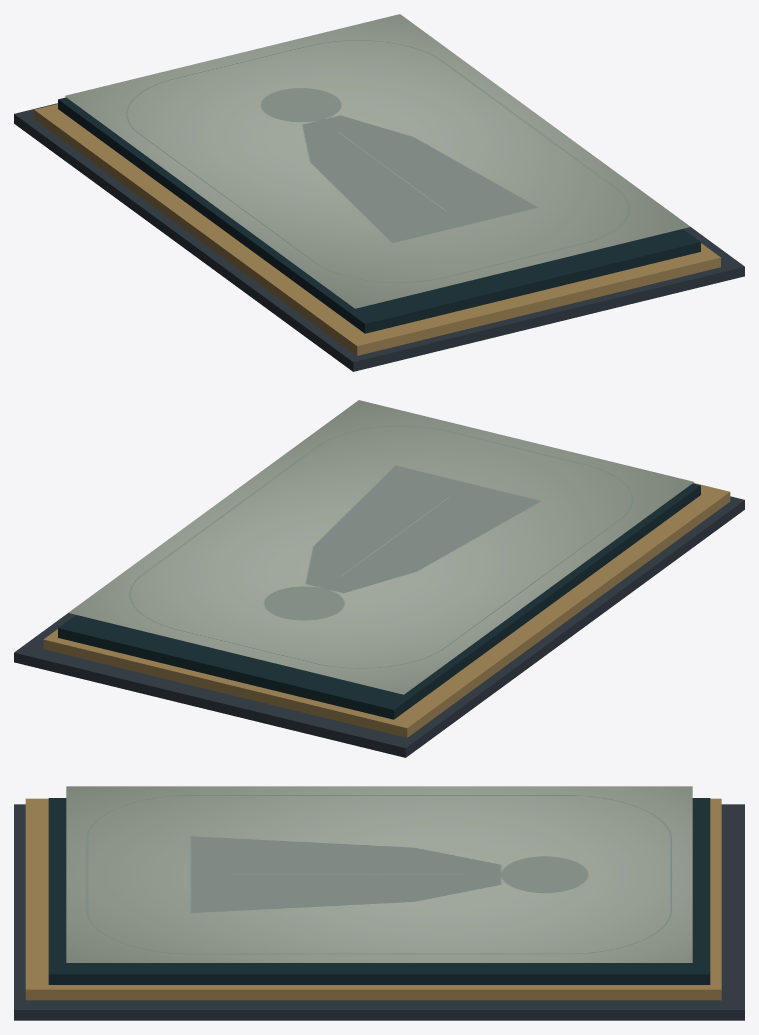
File: 卡牌-立绘平面.glb
The picture shows the model from 3 angles, top to bottom: view 1: azimuth 30°, elevation 25°; view 2: azimuth 150°, elevation 25°; view 3: azimuth 270°, elevation 25°; orthographic projection. The views are drawn at different scales.
Visible parts, largest first — view 1: Placeholder_Friendly_01_Artwork, Portrait_Card_2x3; view 2: Placeholder_Friendly_01_Artwork, Portrait_Card_2x3; view 3: Placeholder_Friendly_01_Artwork, Portrait_Card_2x3.
Part boxes in pixels (box(x1,y1,x2,y2)): Placeholder_Friendly_01_Artwork: box(65, 14, 690, 308); Portrait_Card_2x3: box(14, 97, 744, 371); Placeholder_Friendly_01_Artwork: box(68, 400, 693, 694); Portrait_Card_2x3: box(14, 483, 744, 757); Placeholder_Friendly_01_Artwork: box(66, 786, 692, 962); Portrait_Card_2x3: box(14, 798, 744, 1020).
Bounding box in the file's own units: 1.68 × 0.16 × 2.52.
Materials: 4 (1 with a texture image).
